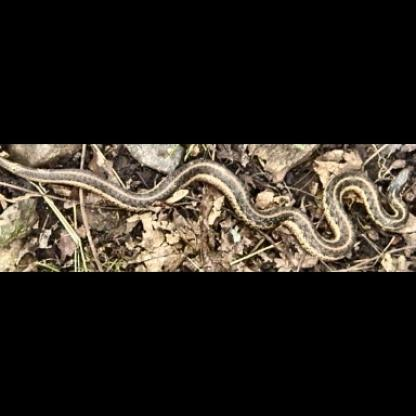Snake: (1, 152, 416, 261)
